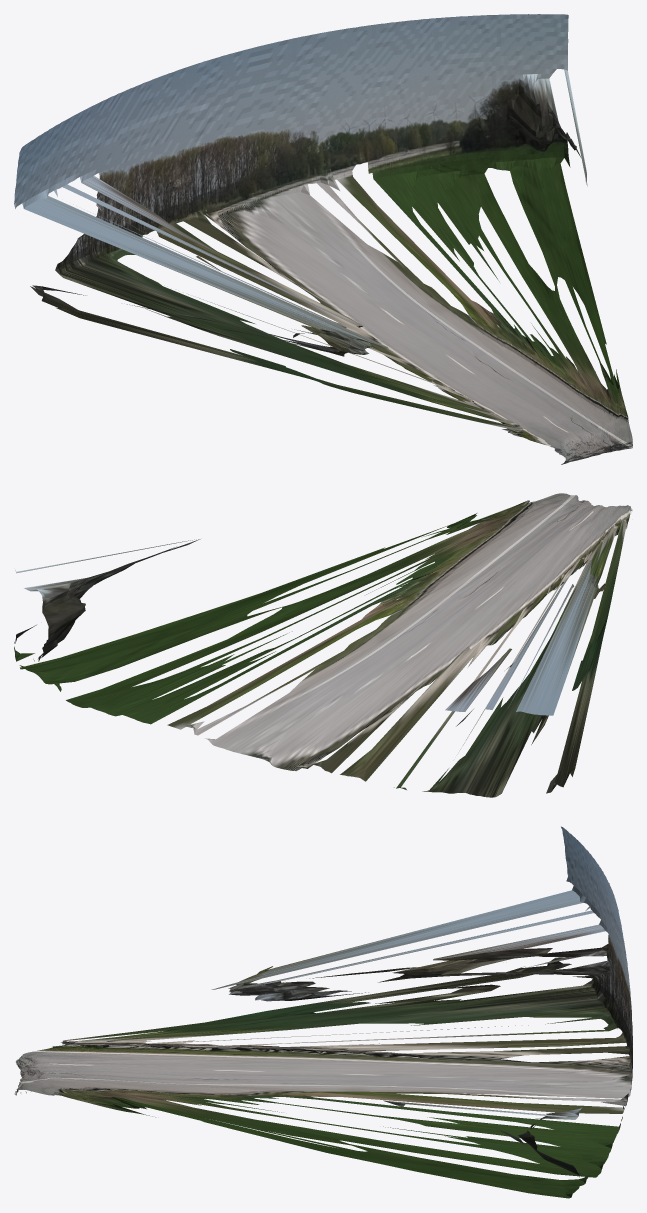
3 renders of one model, top to bottom at view 1: azimuth 30°, elevation 25°; view 2: azimuth 150°, elevation 25°; view 3: azimuth 270°, elevation 25°, orthographic. The views are drawn at different scales.
Parts seen in each view (by area): view 1: defaultobject; view 2: defaultobject; view 3: defaultobject.
Boxes of the visible parts, box(x1,y1,x2,y2) form: defaultobject: box(14, 14, 632, 464); defaultobject: box(14, 493, 632, 797); defaultobject: box(14, 826, 632, 1198).
Size of the model in its own units: 40.95 by 12.16 by 44.38.
1 material, 1 textured.
